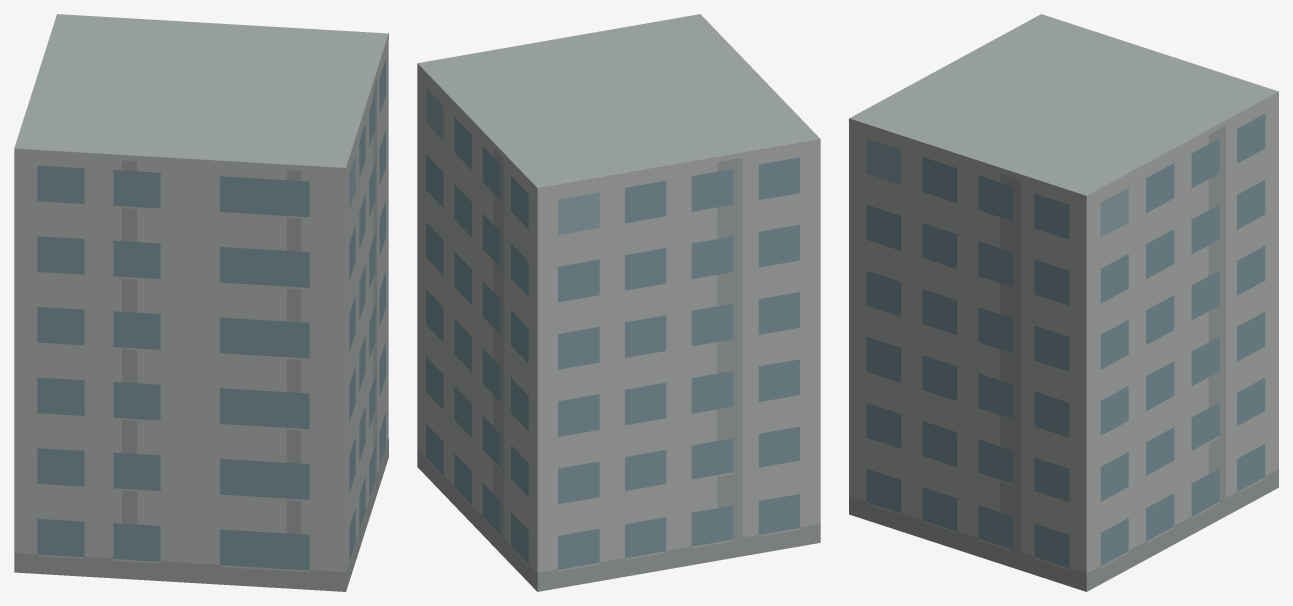
The model's file is survey-upis-32622096.glb.
The picture shows the model from 3 angles, left to right: view 1: azimuth 30°, elevation 25°; view 2: azimuth 150°, elevation 25°; view 3: azimuth 270°, elevation 25°; orthographic projection. The views are drawn at different scales.
Visible parts, largest first — view 1: survey-upis-32622096.tmp; view 2: survey-upis-32622096.tmp; view 3: survey-upis-32622096.tmp.
Boxes of the visible parts, left/top/right/bottom form: survey-upis-32622096.tmp: left=14, top=14, right=388, bottom=591; survey-upis-32622096.tmp: left=417, top=14, right=820, bottom=591; survey-upis-32622096.tmp: left=849, top=14, right=1278, bottom=591.
Size of the model in its own units: 18.22 by 18.5 by 18.2.
